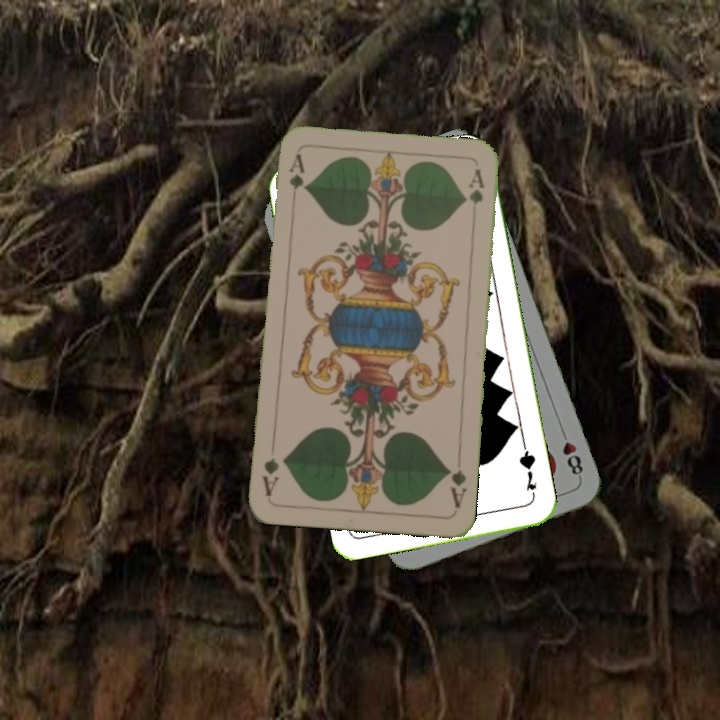G7: (515, 442, 540, 501)
GA: (284, 150, 307, 209), (443, 464, 469, 510)
H8: (556, 425, 586, 481)
